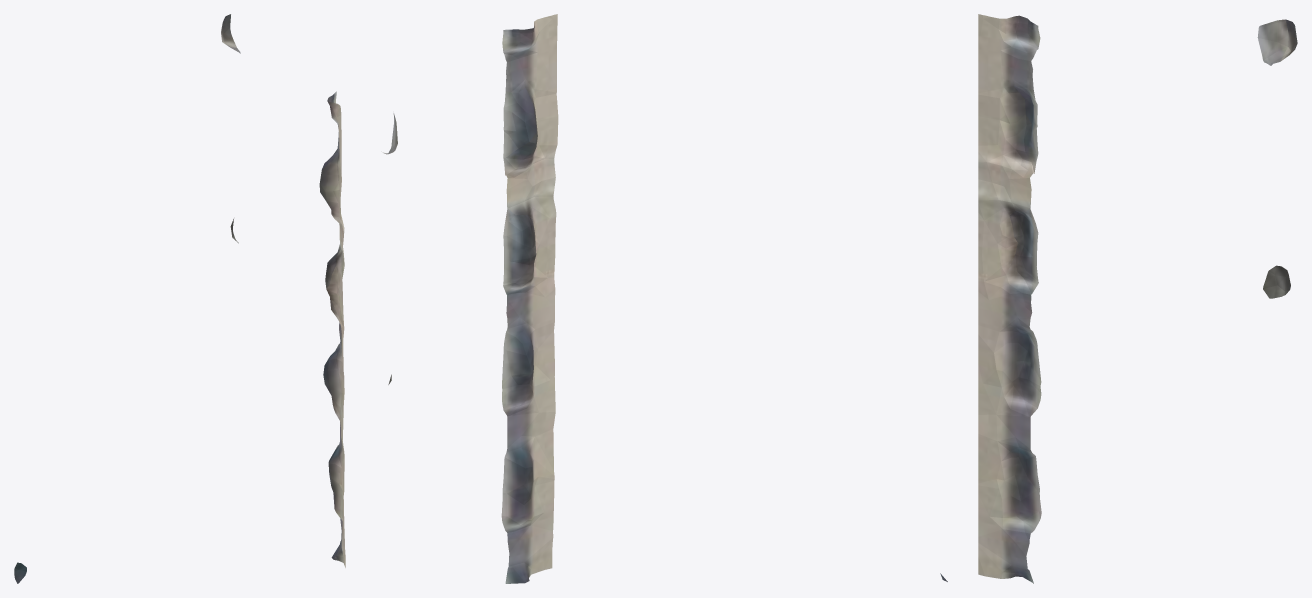
Rendered from Tile_+001_+004_L22_00010130.glb.
3 views of the same model, side by side, from view 1: azimuth 30°, elevation 25°; view 2: azimuth 150°, elevation 25°; view 3: azimuth 270°, elevation 25° (orthographic). The views are drawn at different scales.
Parts seen in each view (by area): view 1: rtc; view 2: rtc; view 3: rtc.
Part boxes in pixels (bbox=[...]): rtc: bbox=[14, 14, 345, 583]; rtc: bbox=[383, 14, 947, 583]; rtc: bbox=[978, 14, 1297, 583].
Bounding box in the file's own units: 8.04 × 10.25 × 5.31.
Materials: 1 (1 with a texture image).
